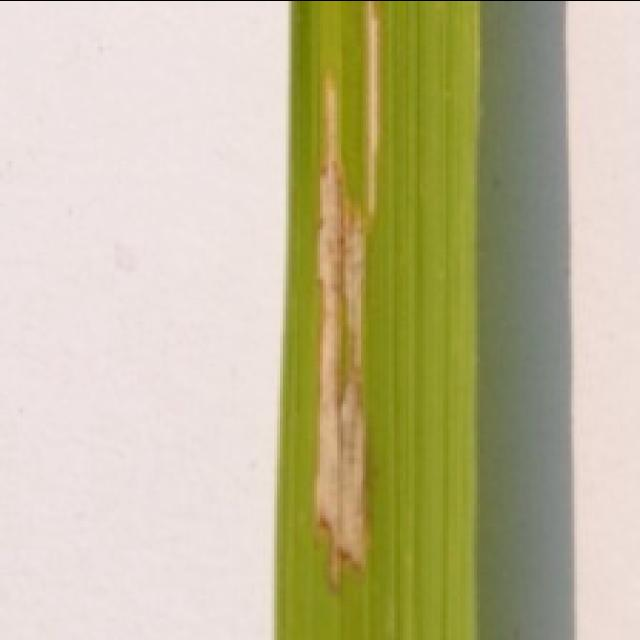Unhealthy: (314, 76, 374, 585), (366, 0, 383, 211)
